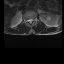CCS_normal: (29, 17, 31, 25)
LFS_stenosis: (33, 18, 35, 21)
LLS_normal: (31, 18, 33, 22)
RFS_normal: (26, 18, 28, 23)
RLS_normal: (28, 17, 29, 23)
